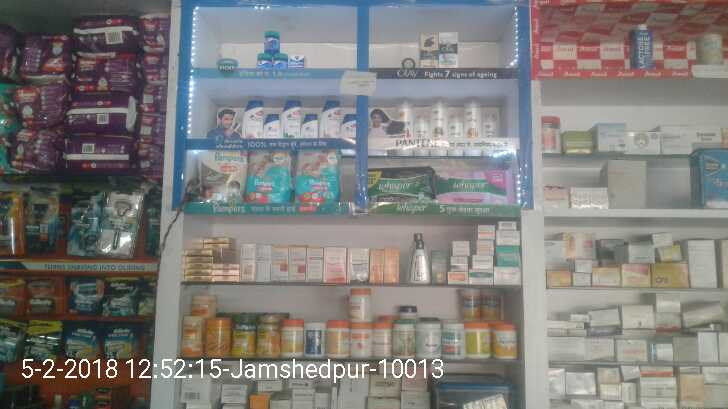beauty: (484, 109, 506, 153), (429, 97, 446, 152), (461, 114, 484, 154), (395, 98, 410, 156), (324, 99, 343, 141), (283, 102, 303, 141), (439, 31, 459, 68), (247, 98, 263, 141), (446, 115, 463, 155), (421, 34, 439, 69), (340, 113, 360, 144), (414, 113, 428, 153), (302, 111, 320, 141), (263, 112, 278, 140)
pharmacy: (364, 163, 436, 207), (197, 147, 248, 206), (246, 147, 295, 205), (296, 146, 345, 204), (440, 171, 511, 205), (275, 51, 306, 72), (262, 28, 283, 53), (250, 50, 270, 71)
